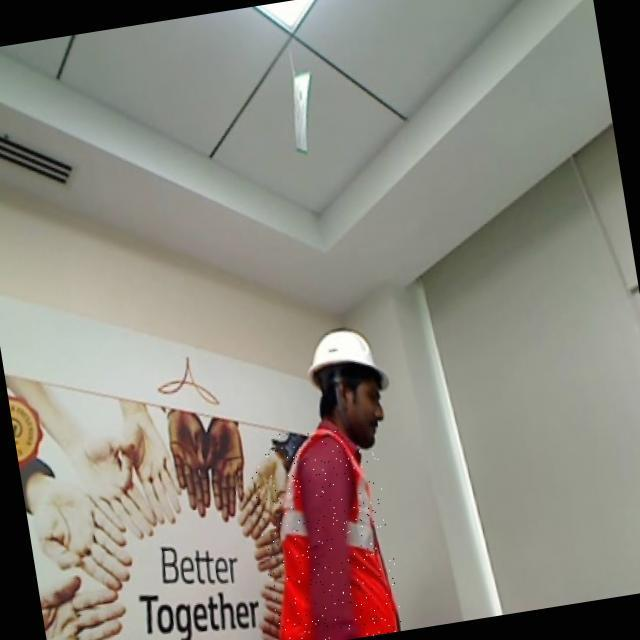helmet: (309, 317, 395, 407)
vest: (245, 419, 405, 640)
